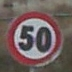limite 50: (5, 8, 63, 67)
